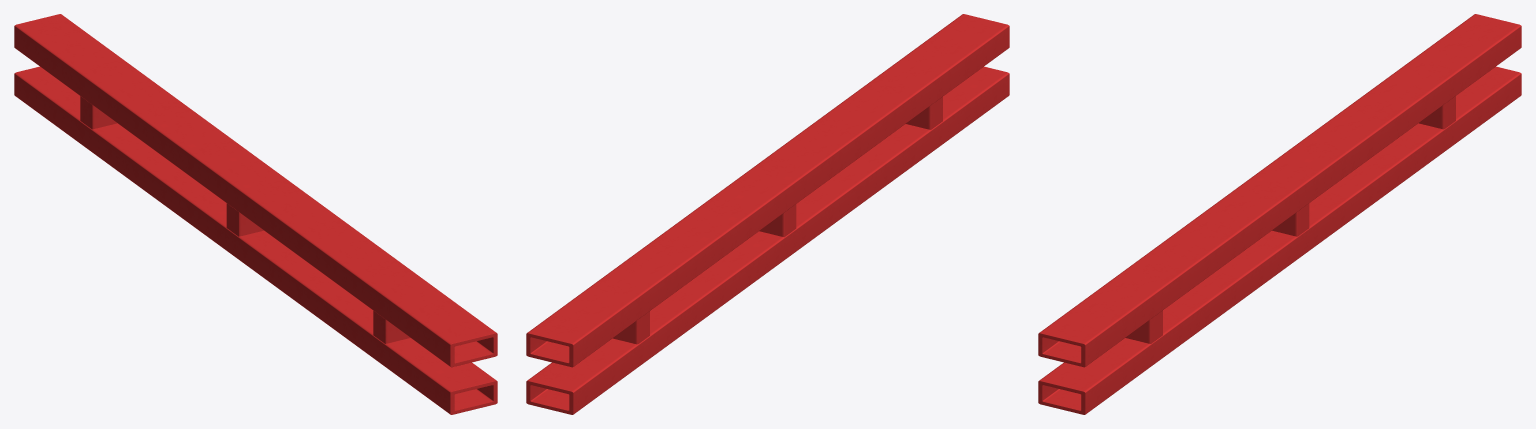
File: leveling-beam.glb
3 views of the same model, side by side, from view 1: azimuth 30°, elevation 25°; view 2: azimuth 150°, elevation 25°; view 3: azimuth 330°, elevation 25° (orthographic).
Visible parts, largest first — view 1: Leveling_beam_01; view 2: Leveling_beam_01; view 3: Leveling_beam_01.
Part boxes in pixels (x1,y1,x2,y2): Leveling_beam_01: [14, 14, 497, 414]; Leveling_beam_01: [526, 14, 1009, 414]; Leveling_beam_01: [1038, 14, 1521, 414].
Size of the model in its own units: 0.0626 by 0.09 by 1.
Materials: 1 (1 with a texture image).
